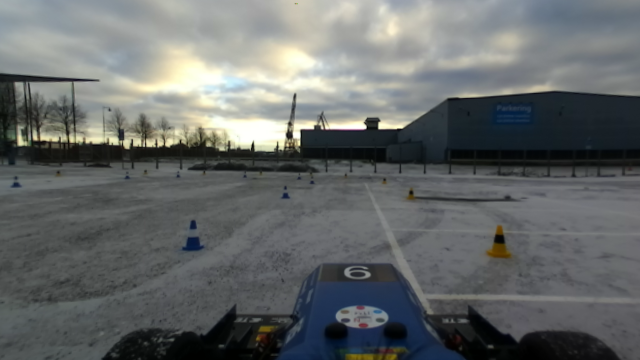blue: (179, 218, 208, 253)
yellow: (486, 223, 515, 262)
